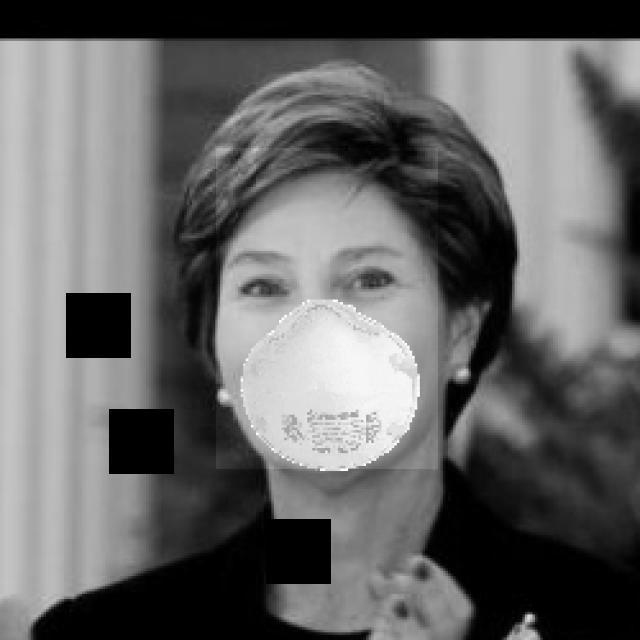n95: (216, 148, 438, 469)
